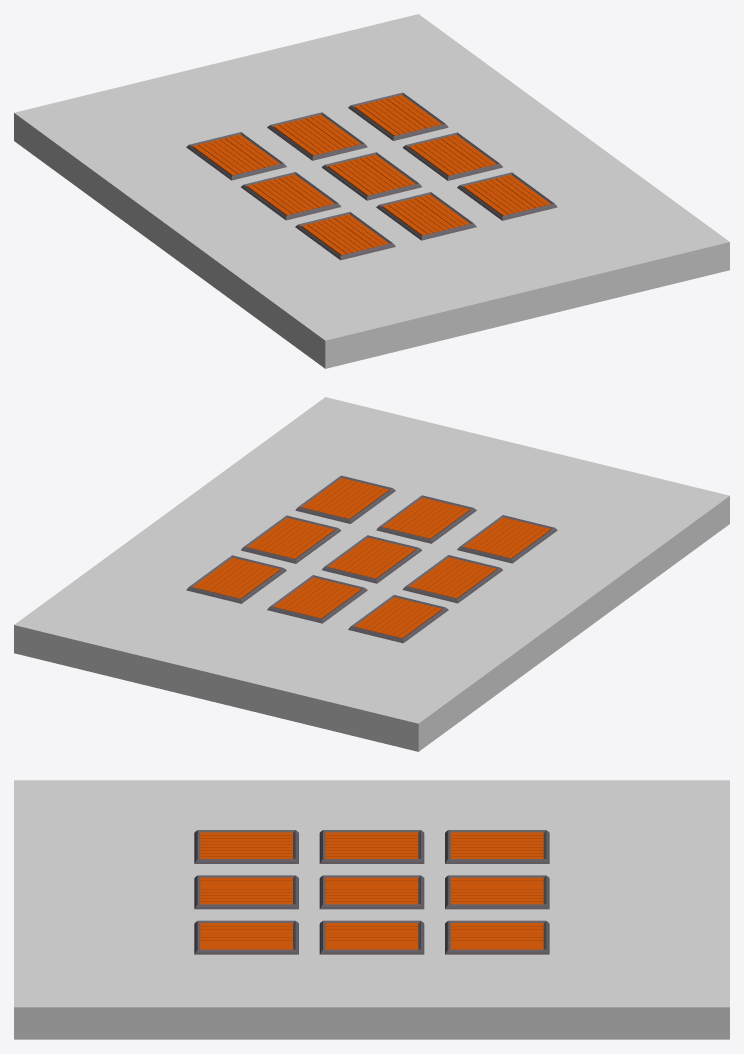
Rendered from CardArena3.fbx.
3 renders of one model, top to bottom at view 1: azimuth 30°, elevation 25°; view 2: azimuth 150°, elevation 25°; view 3: azimuth 270°, elevation 25°, orthographic. The views are drawn at different scales.
Visible parts, largest first — view 1: Cube, Card Slot 9, Card Slot 1, Card Slot 7, Card Slot 6, Card Slot 5, Card Slot 2, Card Slot 8, Card Slot 4, Card Slot 3; view 2: Cube, Card Slot 7, Card Slot 3, Card Slot 8, Card Slot 6, Card Slot 5, Card Slot 1, Card Slot 2, Card Slot 4, Card Slot 9; view 3: Cube, Card Slot 5, Card Slot 4, Card Slot 8, Card Slot 2, Card Slot 7, Card Slot 1, Card Slot 6, Card Slot 9, Card Slot 3.
Part boxes in pixels (x1=…): Cube: x1=14, y1=14, x2=729, y2=368; Card Slot 9: x1=295, y1=212, x2=395, y2=260; Card Slot 1: x1=348, y1=92, x2=448, y2=140; Card Slot 7: x1=457, y1=172, x2=557, y2=220; Card Slot 6: x1=241, y1=172, x2=341, y2=220; Card Slot 5: x1=322, y1=152, x2=421, y2=200; Card Slot 2: x1=267, y1=112, x2=367, y2=160; Card Slot 8: x1=376, y1=192, x2=476, y2=240; Card Slot 4: x1=402, y1=132, x2=502, y2=180; Card Slot 3: x1=186, y1=132, x2=286, y2=180; Cube: x1=14, y1=397, x2=729, y2=751; Card Slot 7: x1=295, y1=475, x2=395, y2=523; Card Slot 3: x1=348, y1=595, x2=448, y2=643; Card Slot 8: x1=376, y1=495, x2=476, y2=543; Card Slot 6: x1=402, y1=555, x2=502, y2=603; Card Slot 5: x1=322, y1=535, x2=421, y2=583; Card Slot 1: x1=186, y1=555, x2=286, y2=603; Card Slot 2: x1=267, y1=575, x2=367, y2=623; Card Slot 4: x1=241, y1=515, x2=341, y2=563; Card Slot 9: x1=457, y1=515, x2=557, y2=563; Cube: x1=14, y1=780, x2=729, y2=1039; Card Slot 5: x1=319, y1=875, x2=424, y2=909; Card Slot 4: x1=319, y1=920, x2=424, y2=954; Card Slot 8: x1=194, y1=875, x2=298, y2=909; Card Slot 2: x1=445, y1=875, x2=549, y2=909; Card Slot 7: x1=194, y1=920, x2=298, y2=954; Card Slot 1: x1=445, y1=920, x2=549, y2=954; Card Slot 6: x1=319, y1=830, x2=424, y2=863; Card Slot 9: x1=194, y1=830, x2=298, y2=863; Card Slot 3: x1=445, y1=830, x2=549, y2=863.
Bounding box in the file's own units: 3000 × 224 × 4000.
